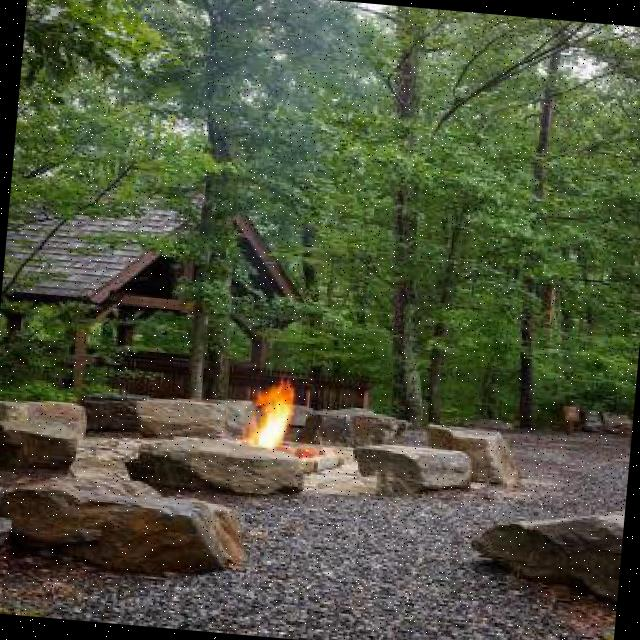fire: (225, 379, 308, 463)
